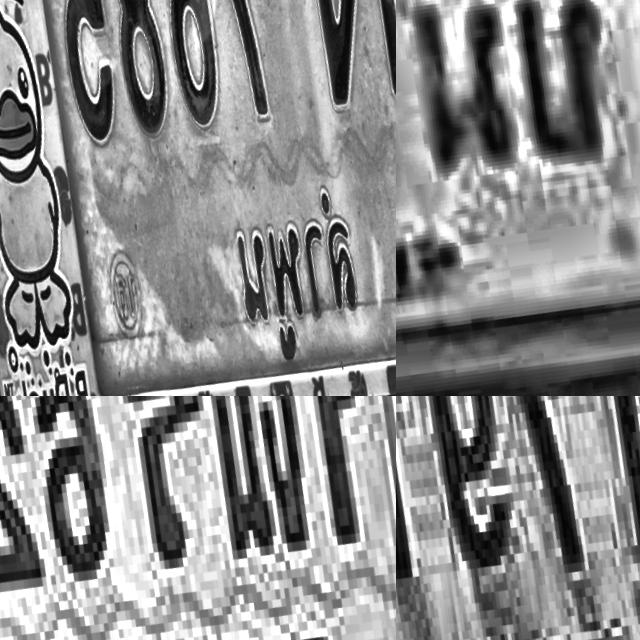license-plate: (0, 0, 396, 396), (396, 0, 640, 396), (0, 396, 396, 640), (396, 396, 640, 640)
